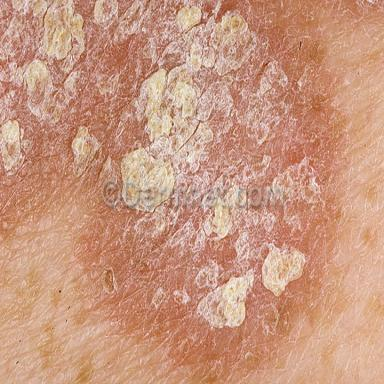Psoriasis: (1, 2, 350, 384)
